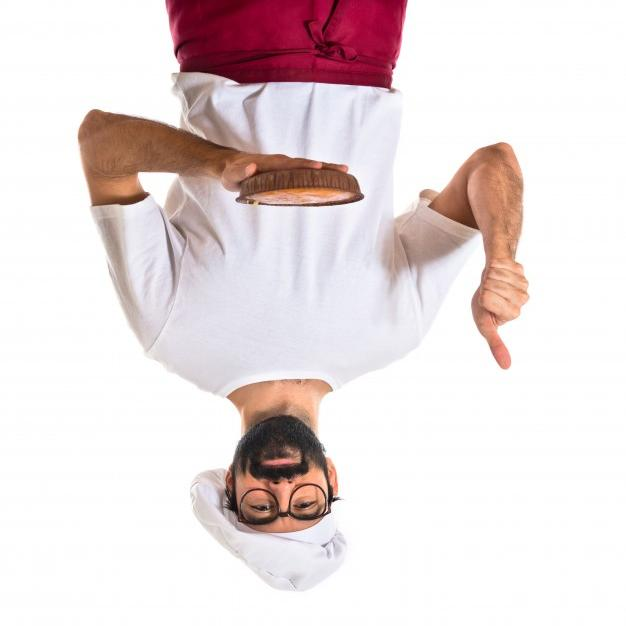thumbsdown: (476, 259, 530, 370)
